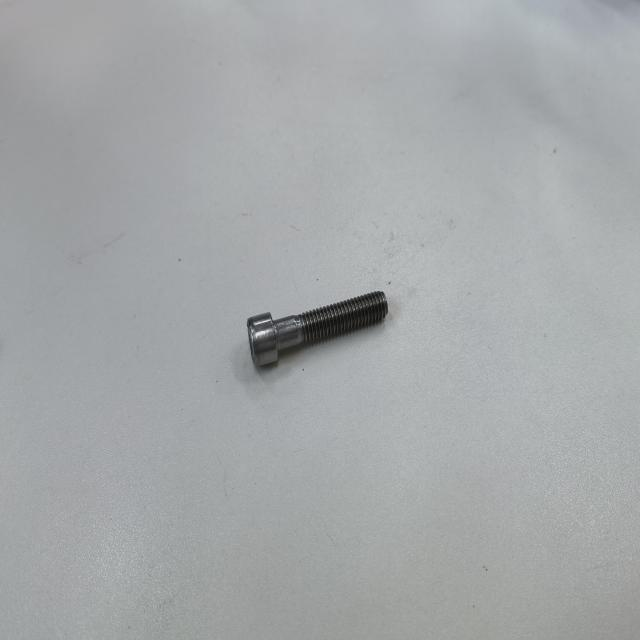screws: (245, 281, 391, 371)
